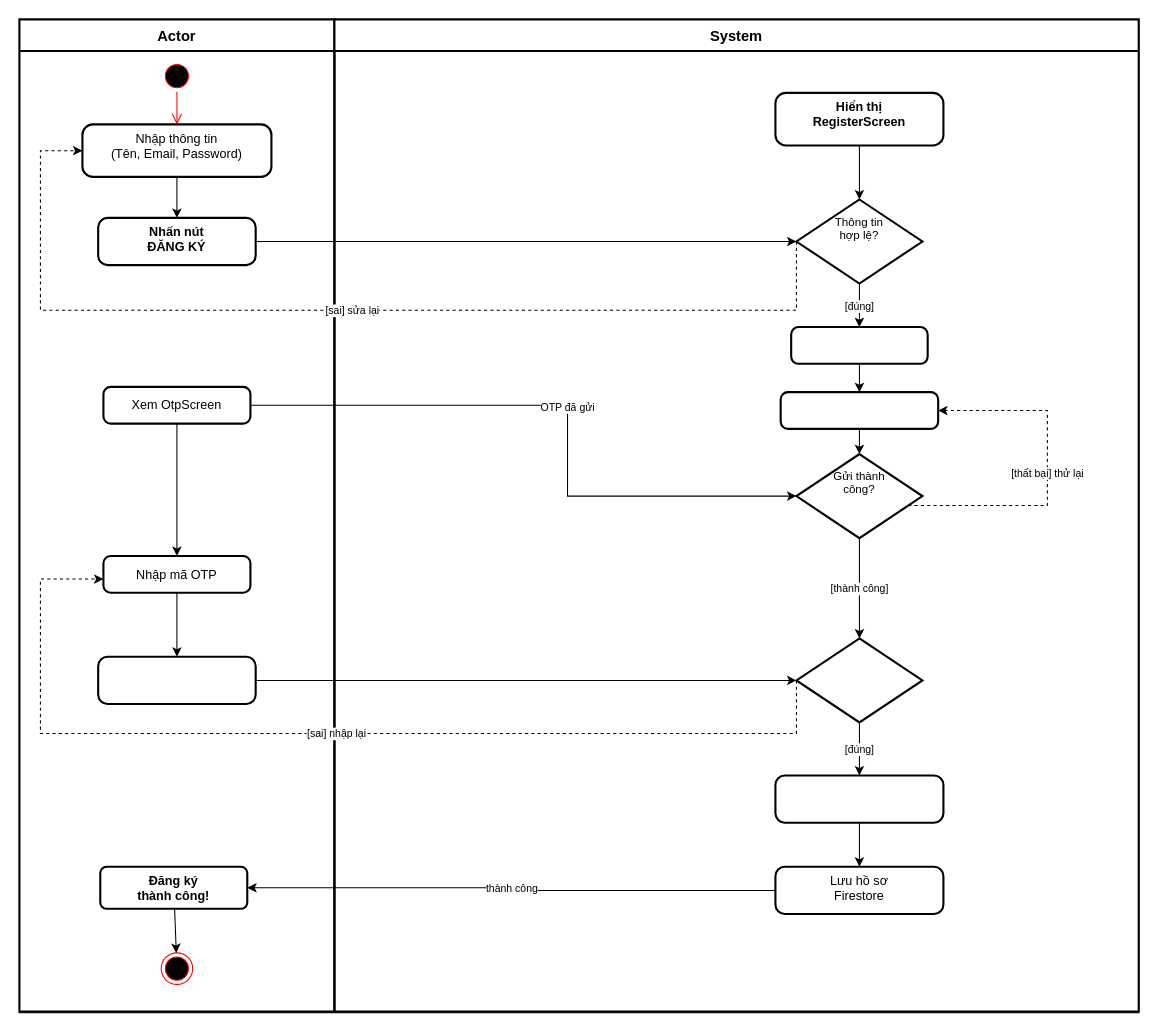
The diagram is 1157 pixels wide and 1031 high, and some of its shapes have lost their labels. Here are the shapes that lost their labels. From the top down, the centre of each, then its label:
point 859,345: Tạo mã OTP
point 859,410: Gửi OTP qua Email
point 176,680: Nhấn nút XÁC NHẬN
point 859,680: OTP đúng?
point 859,798: Firebase Auth tạo tài khoản
